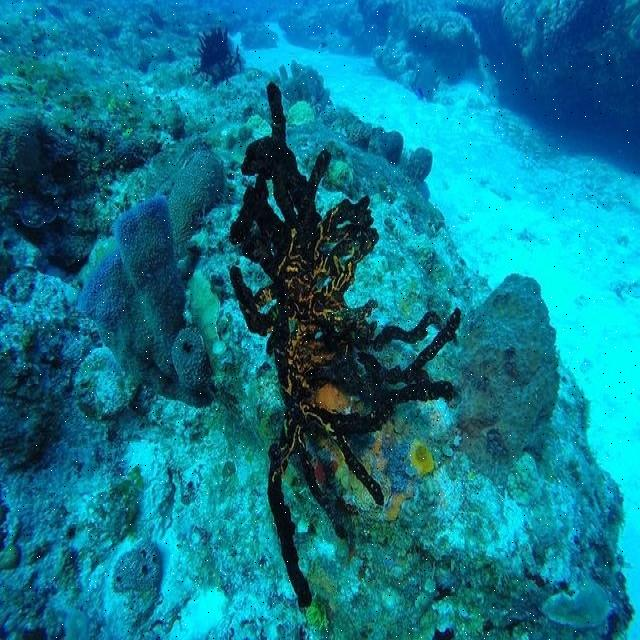reefs: (229, 81, 460, 604), (77, 196, 215, 408), (168, 150, 224, 245)
